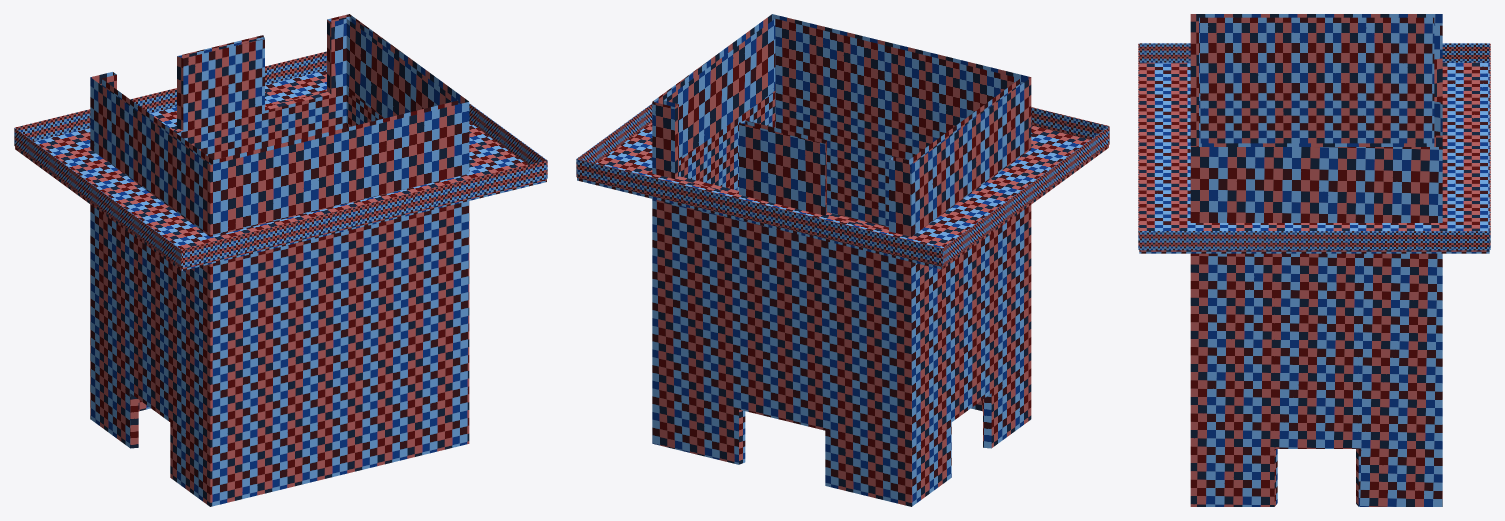
The model's file is radio_tower_01.fbx.
The picture shows the model from 3 angles, left to right: view 1: azimuth 30°, elevation 25°; view 2: azimuth 150°, elevation 25°; view 3: azimuth 270°, elevation 25°; orthographic projection. The views are drawn at different scales.
Visible parts, largest first — view 1: radio_tower_01; view 2: radio_tower_01; view 3: radio_tower_01.
Part boxes in pixels (x1=…): radio_tower_01: x1=14, y1=14, x2=547, y2=506; radio_tower_01: x1=576, y1=14, x2=1109, y2=506; radio_tower_01: x1=1138, y1=14, x2=1490, y2=506.
Bounding box in the file's own units: 2132 × 1900 × 1684.
Materials: 1 (1 with a texture image).
